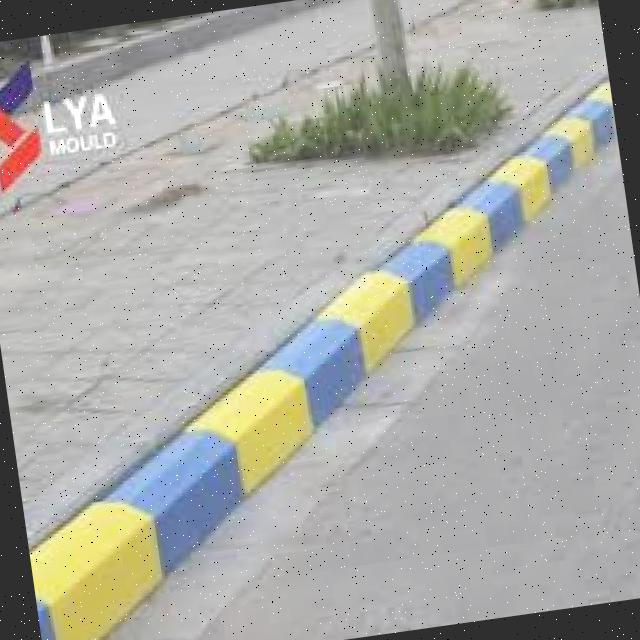curb: (12, 383, 317, 640), (248, 235, 451, 435), (488, 80, 624, 190), (411, 205, 507, 297), (469, 161, 604, 224)
